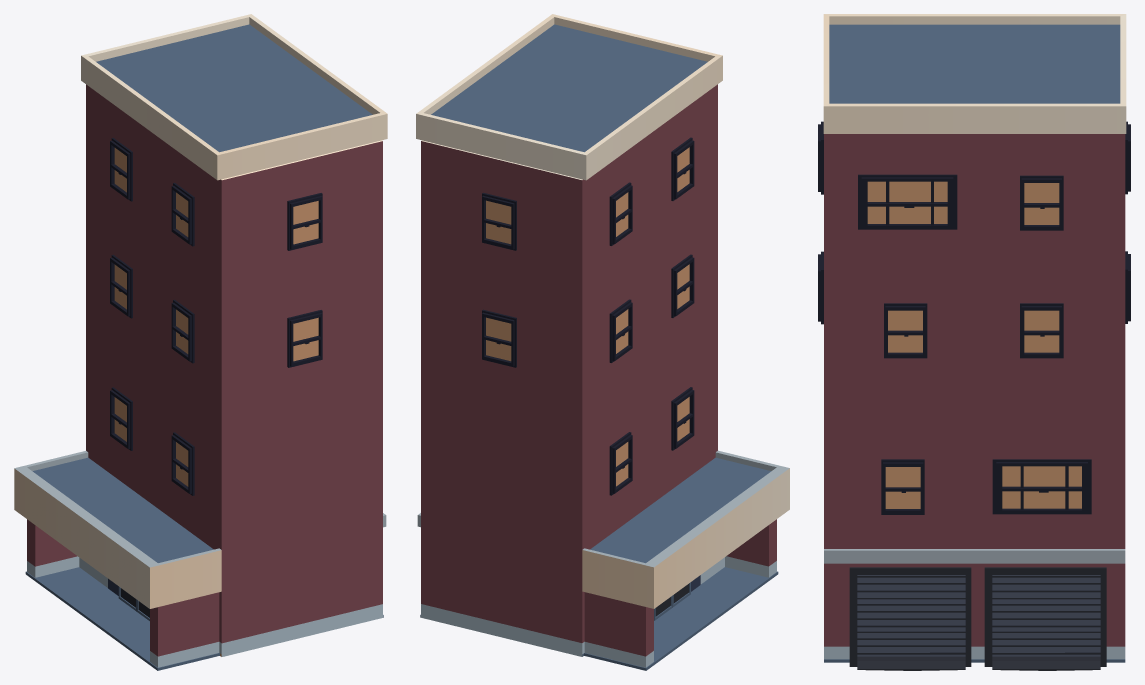
The model's file is Building_Tall01.fbx.
3 renders of one model, left to right at view 1: azimuth 30°, elevation 25°; view 2: azimuth 150°, elevation 25°; view 3: azimuth 270°, elevation 25°, orthographic. The views are drawn at different scales.
Parts seen in each view (by area): view 1: Cube.390; view 2: Cube.390; view 3: Cube.390.
Boxes of the visible parts, left/top/right/bottom form: Cube.390: left=14, top=14, right=387, bottom=670; Cube.390: left=416, top=14, right=789, bottom=670; Cube.390: left=818, top=14, right=1130, bottom=670.
Size of the model in its own units: 700 by 1411 by 710.
